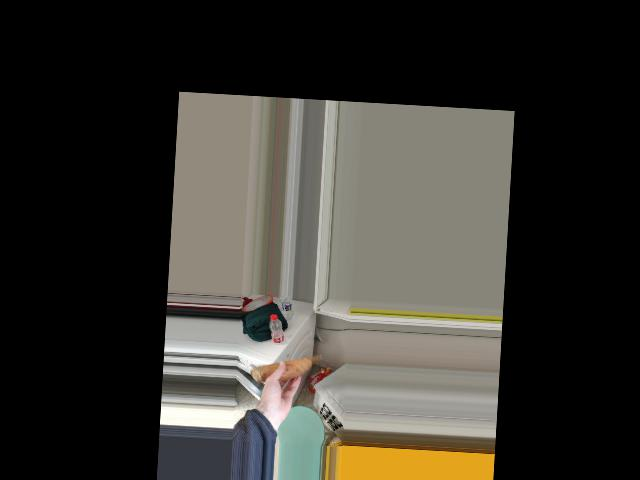sweet_potato: (254, 348, 319, 388)
